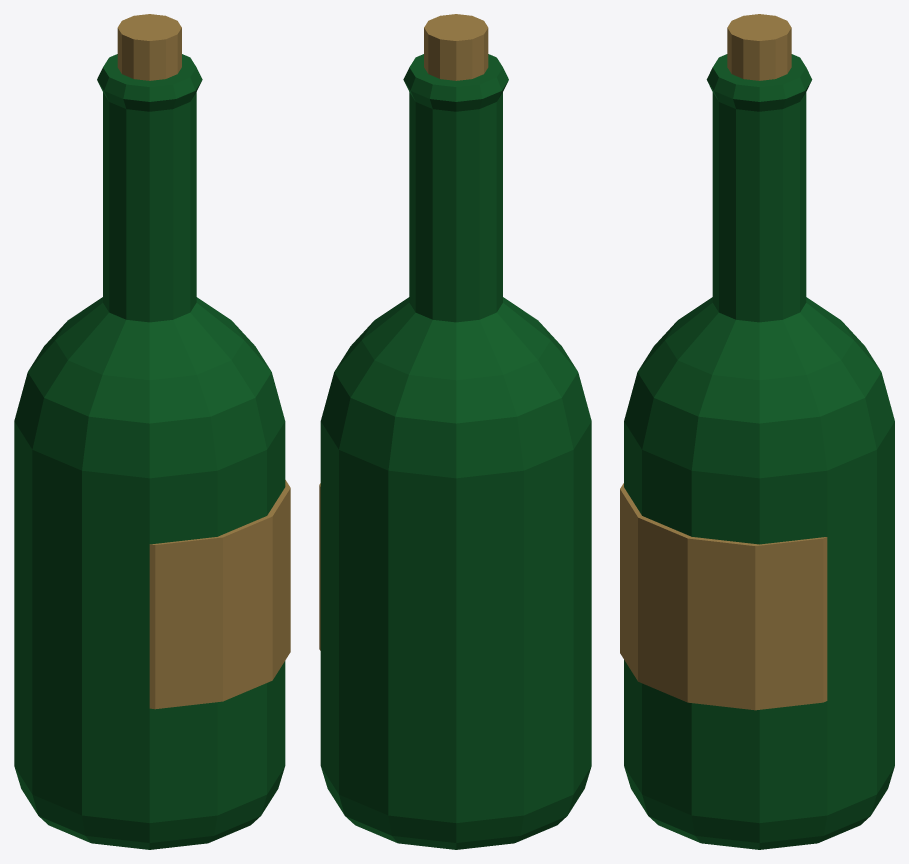
The model's file is alcohol.fbx.
The picture shows the model from 3 angles, left to right: view 1: azimuth 30°, elevation 25°; view 2: azimuth 150°, elevation 25°; view 3: azimuth 270°, elevation 25°; orthographic projection.
Parts seen in each view (by area): view 1: Cylinder, Cylinder.001, Cylinder.002; view 2: Cylinder, Cylinder.002; view 3: Cylinder, Cylinder.001, Cylinder.002.
Part boxes in pixels (box(x1,y1,x2,y2)): Cylinder: box(14, 54, 285, 849); Cylinder.001: box(149, 480, 290, 709); Cylinder.002: box(117, 14, 181, 80); Cylinder: box(320, 54, 591, 849); Cylinder.002: box(424, 14, 488, 80); Cylinder: box(624, 54, 894, 849); Cylinder.001: box(620, 483, 827, 710); Cylinder.002: box(727, 14, 791, 80).
Size of the model in its own units: 203 by 630 by 203.
